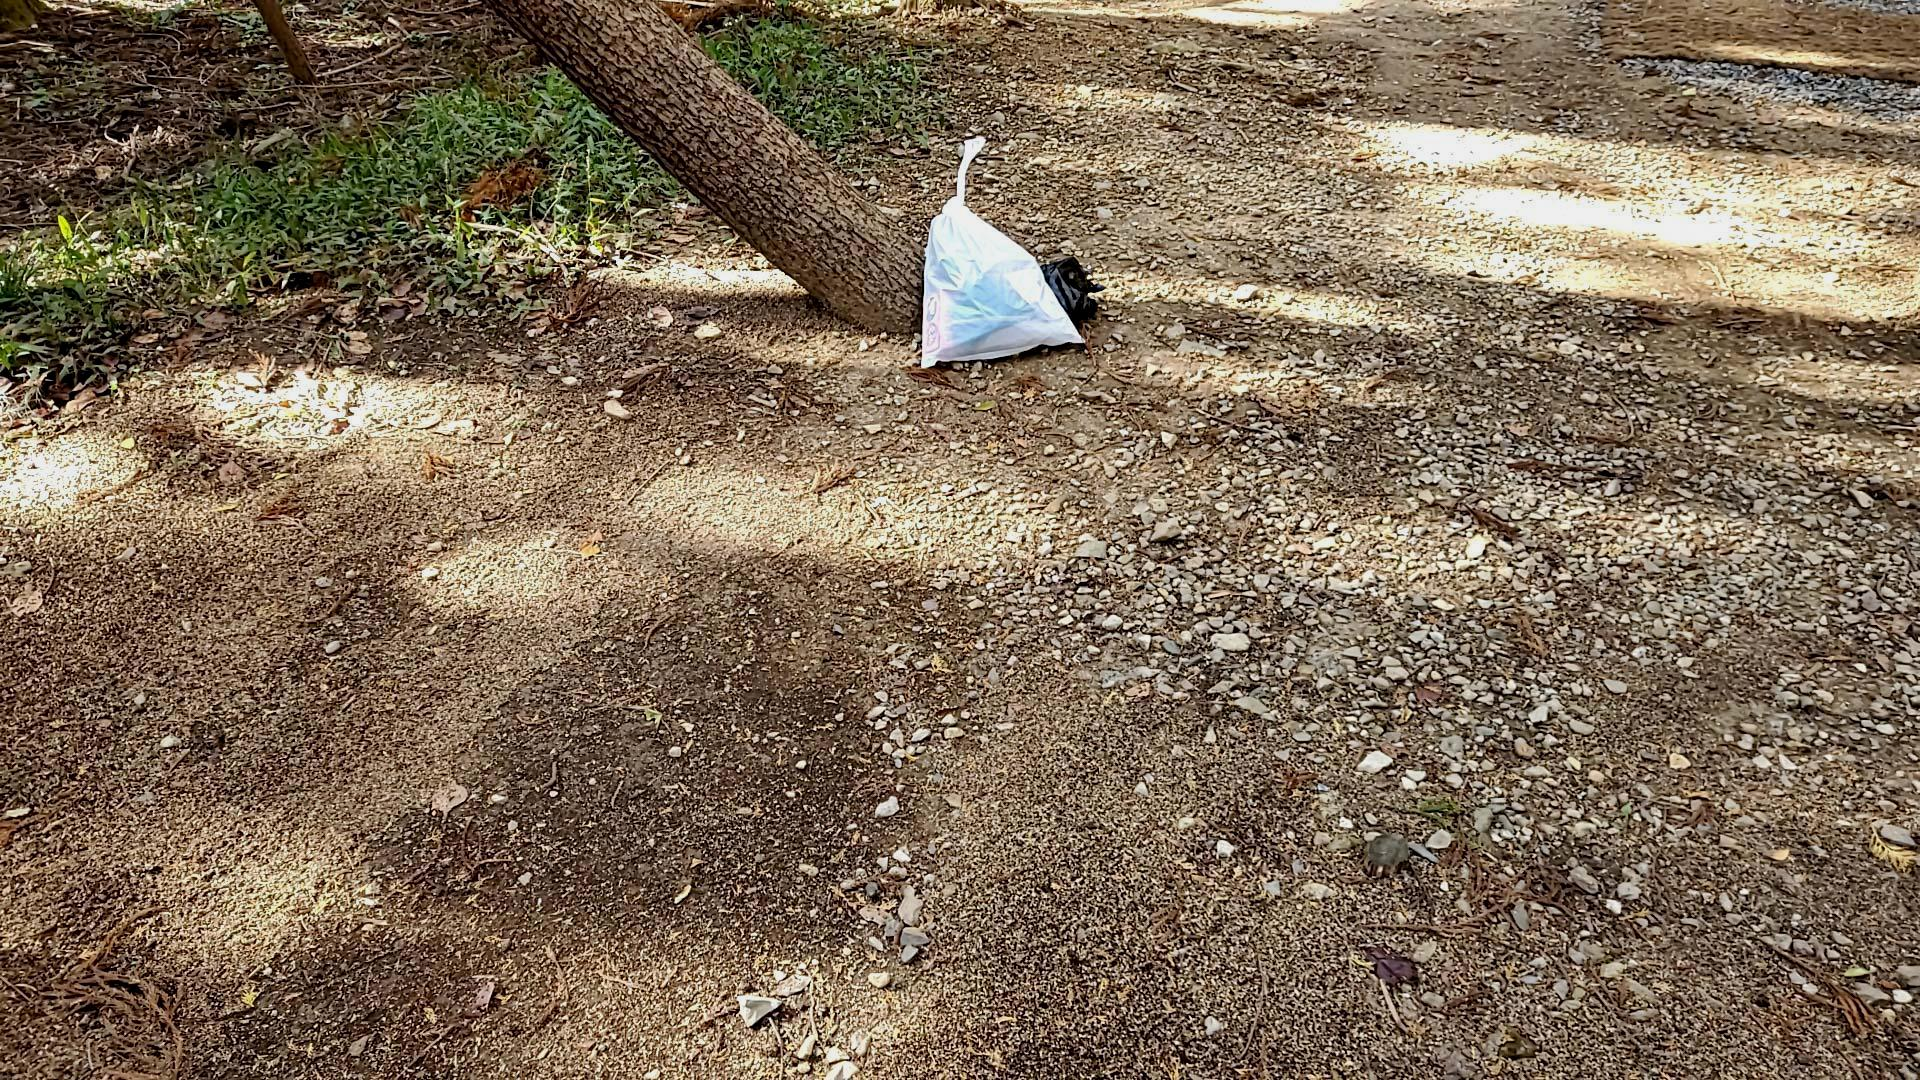white_bag: (897, 127, 1097, 369)
